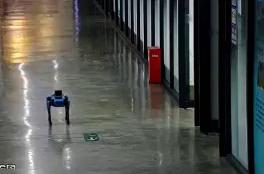robot dog: (45, 89, 72, 126)
